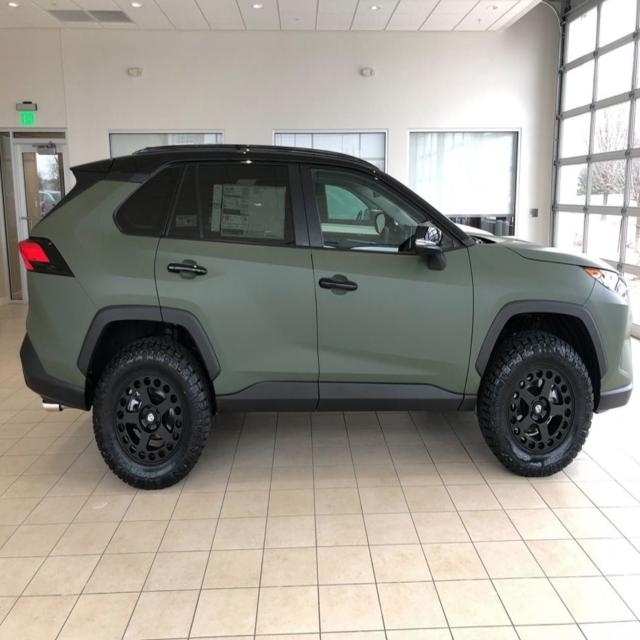light_vehicle: (18, 143, 638, 490)
